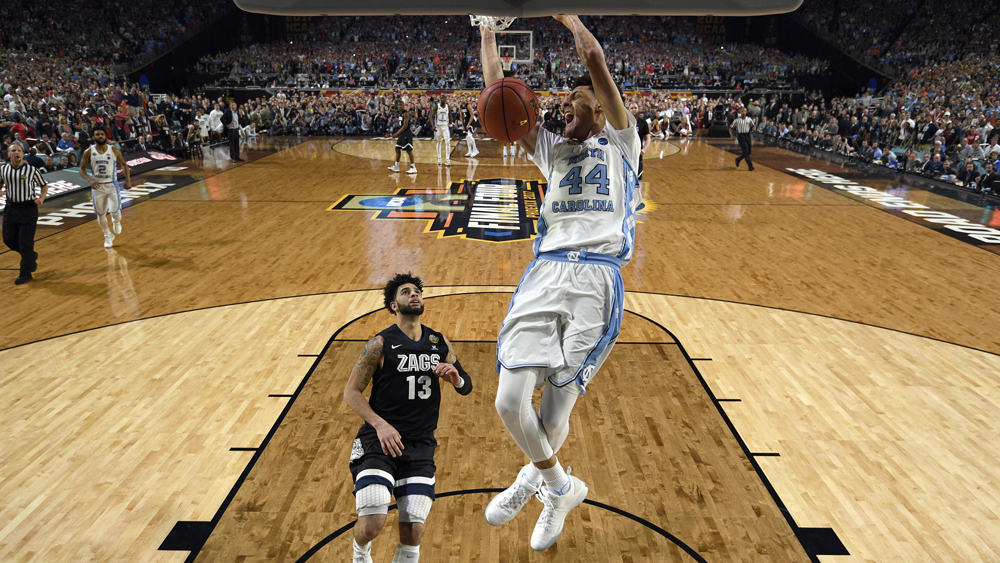basketball: (472, 74, 541, 145)
basketball player: (516, 53, 654, 551), (337, 262, 475, 563), (75, 124, 138, 254), (385, 99, 424, 181), (433, 88, 451, 166)
